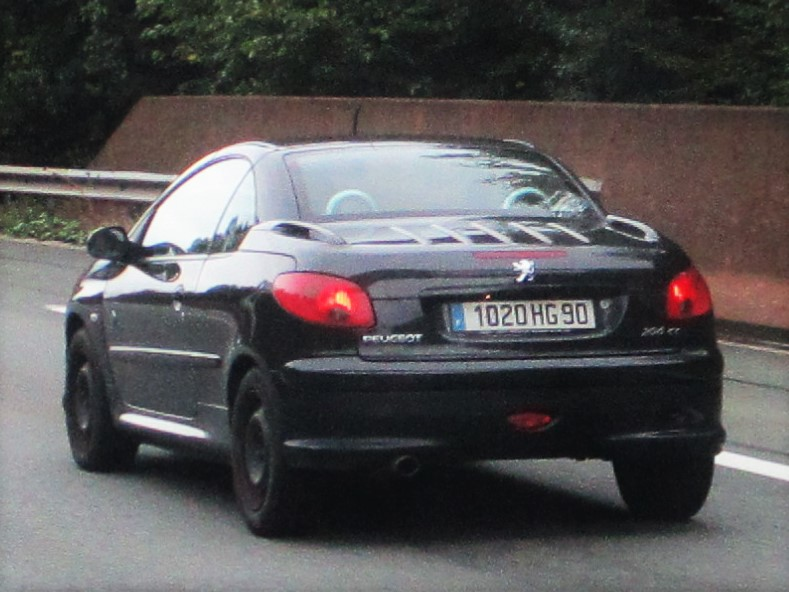licence plate: (448, 296, 600, 333)
